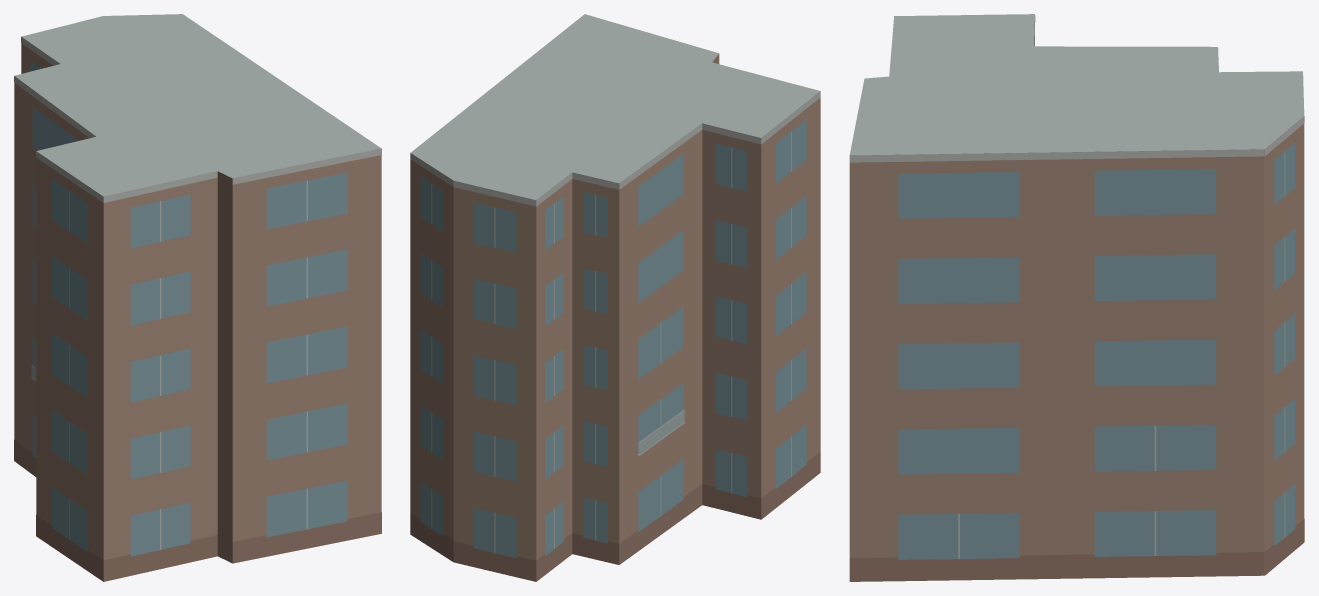
Rendered from survey-upis-32593241.glb.
3 renders of one model, left to right at view 1: azimuth 30°, elevation 25°; view 2: azimuth 150°, elevation 25°; view 3: azimuth 270°, elevation 25°, orthographic. The views are drawn at different scales.
Visible parts, largest first — view 1: survey-upis-32593241.tmp; view 2: survey-upis-32593241.tmp; view 3: survey-upis-32593241.tmp.
Boxes of the visible parts, bbox=[...] form: survey-upis-32593241.tmp: bbox=[14, 14, 381, 581]; survey-upis-32593241.tmp: bbox=[410, 14, 820, 581]; survey-upis-32593241.tmp: bbox=[849, 14, 1304, 581].
Bounding box in the file's own units: 10.33 × 14.5 × 14.03.
